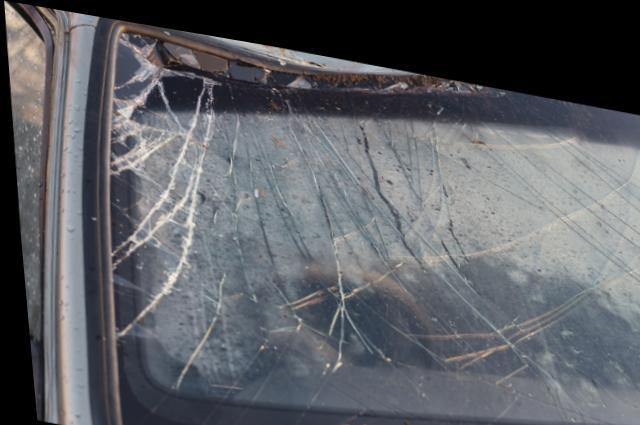glass shatter: (103, 25, 640, 425)
